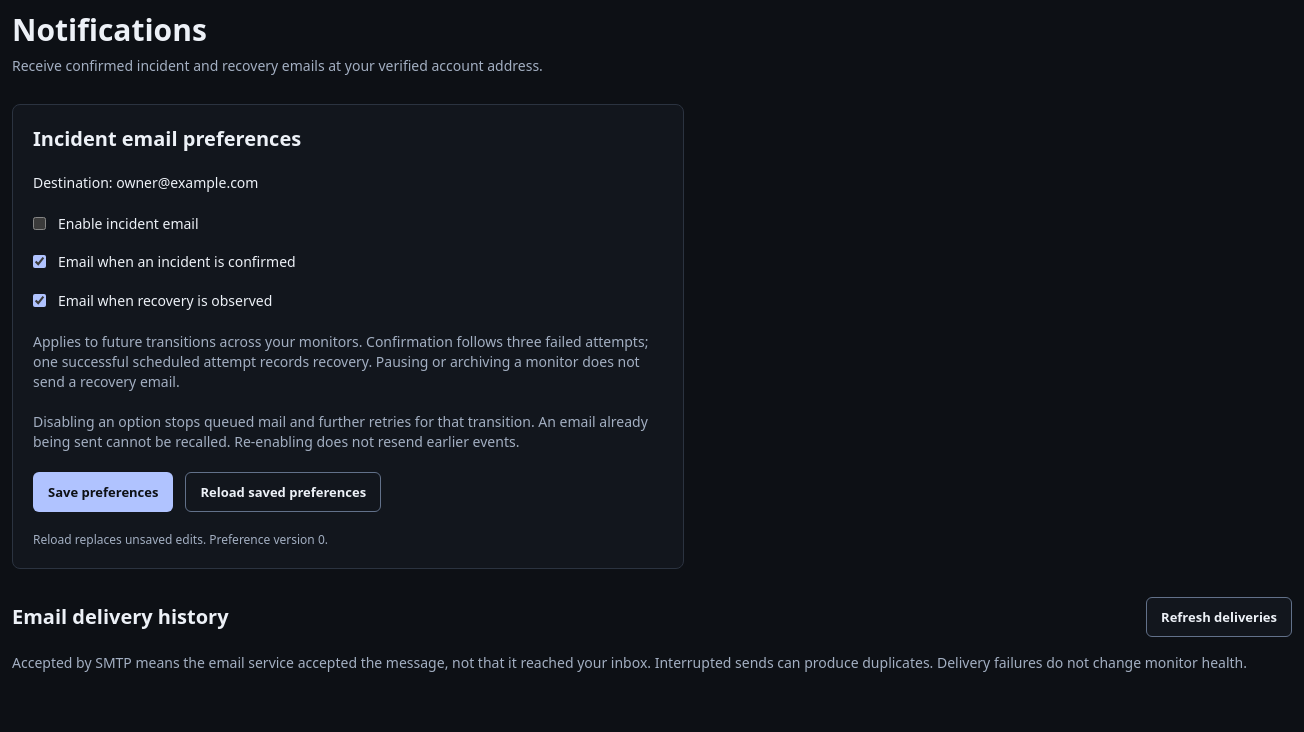
retains edits if reloading fails
This screenshot has width=1304, height=732.
Click the checkbox labelled "Enable incident email" at (40, 224), box 33,217 -> 46,230
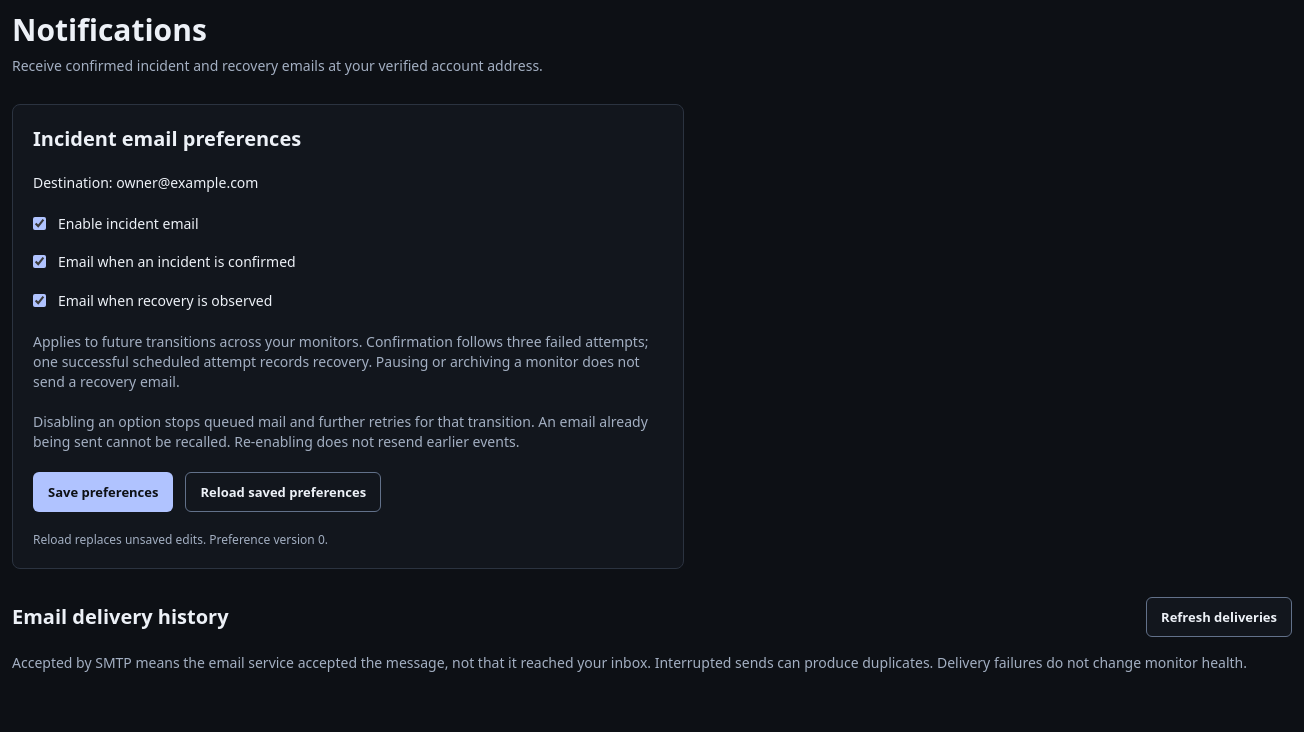
Click the button "Reload saved preferences" at (283, 492), box 185,472 -> 381,512
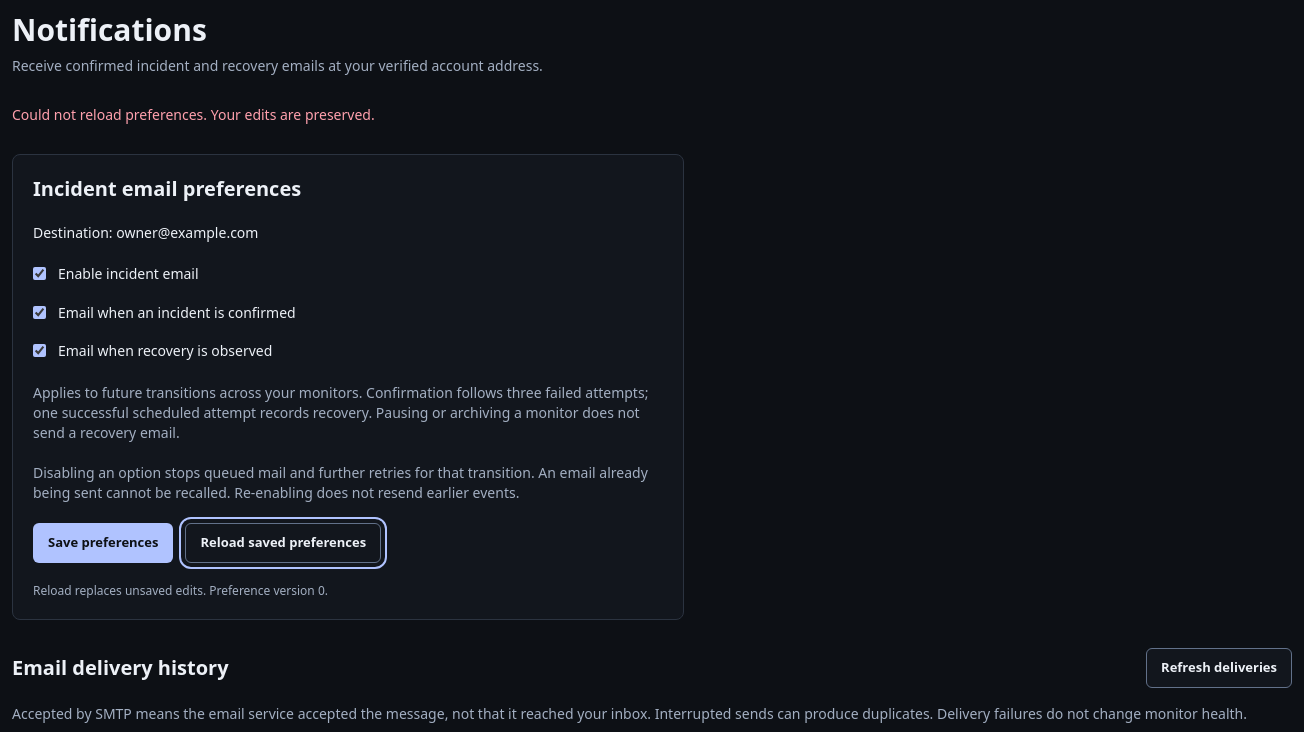
Result: the checkbox labelled "Enable incident email" is checked at 33,267 -> 46,280
Result: the message shows "Could not reload preferences" at 12,105 -> 375,124
